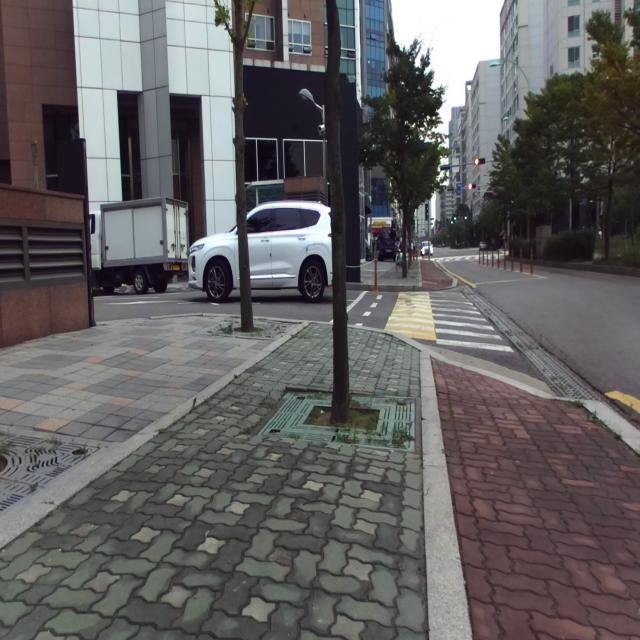횡단보도: (429, 291, 514, 352)
